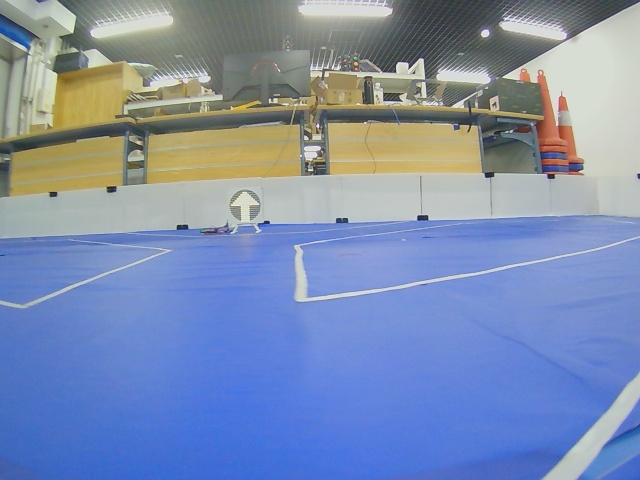straight_yellow: (227, 191, 262, 222)
